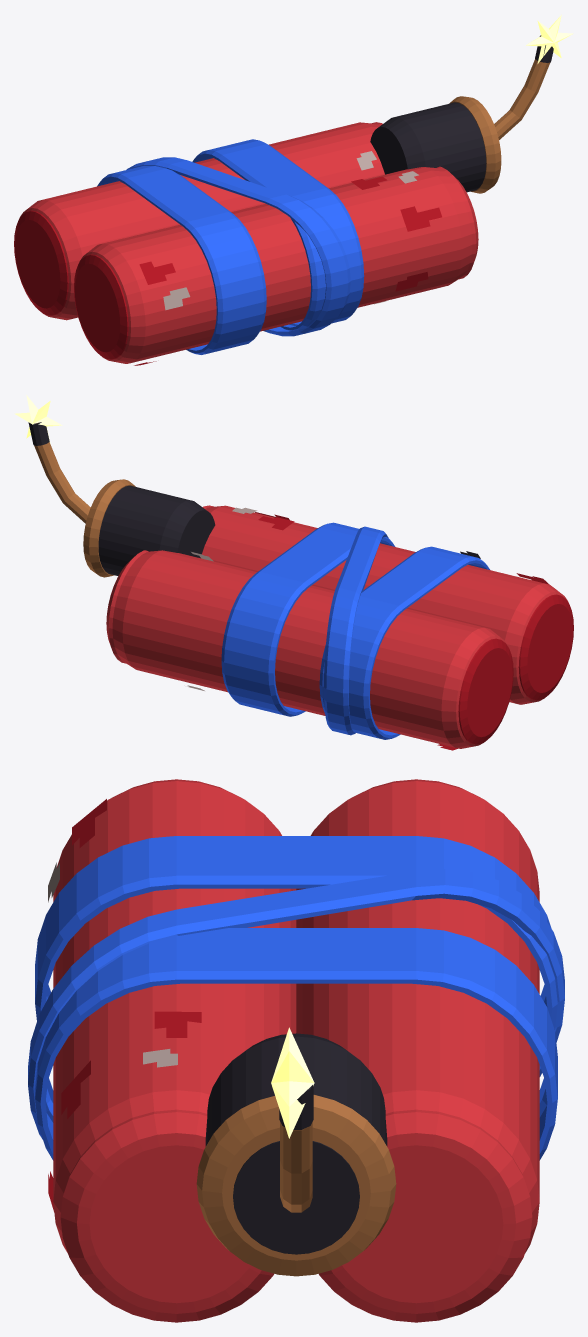
3 views of the same model, one above another, from view 1: azimuth 30°, elevation 25°; view 2: azimuth 150°, elevation 25°; view 3: azimuth 270°, elevation 25° (orthographic). The views are drawn at different scales.
Parts seen in each view (by area): view 1: body, static_pal_policeBlue, static_pal_blood, static_pal_uiDark, static_pal_woodWarm, static_pal_sidewalk, fuseSpark; view 2: body, static_pal_policeBlue, static_pal_blood, static_pal_uiDark, static_pal_woodWarm, fuseSpark; view 3: body, static_pal_policeBlue, static_pal_uiDark, static_pal_woodWarm, static_pal_blood, fuseSpark, static_pal_sidewalk.
Boxes of the visible parts, x1,y1,x2,y2 form: body: [19, 122, 478, 363]; static_pal_policeBlue: [97, 139, 364, 354]; static_pal_blood: [14, 176, 441, 365]; static_pal_uiDark: [370, 35, 553, 192]; static_pal_woodWarm: [449, 59, 549, 193]; static_pal_sidewalk: [163, 151, 418, 310]; fuseSpark: [526, 15, 573, 63]; body: [106, 505, 568, 748]; static_pal_policeBlue: [221, 522, 489, 739]; static_pal_blood: [255, 512, 573, 750]; static_pal_uiDark: [28, 422, 480, 575]; static_pal_woodWarm: [34, 422, 135, 577]; fuseSpark: [14, 395, 62, 443]; body: [53, 779, 539, 1322]; static_pal_policeBlue: [28, 836, 564, 1160]; static_pal_uiDark: [205, 1033, 387, 1254]; static_pal_woodWarm: [196, 1094, 396, 1276]; static_pal_blood: [48, 799, 201, 1211]; fuseSpark: [271, 1027, 314, 1138]; static_pal_sidewalk: [48, 862, 177, 1067].
Bounding box in the file's own units: 0.642 × 0.2678 × 0.2987.
